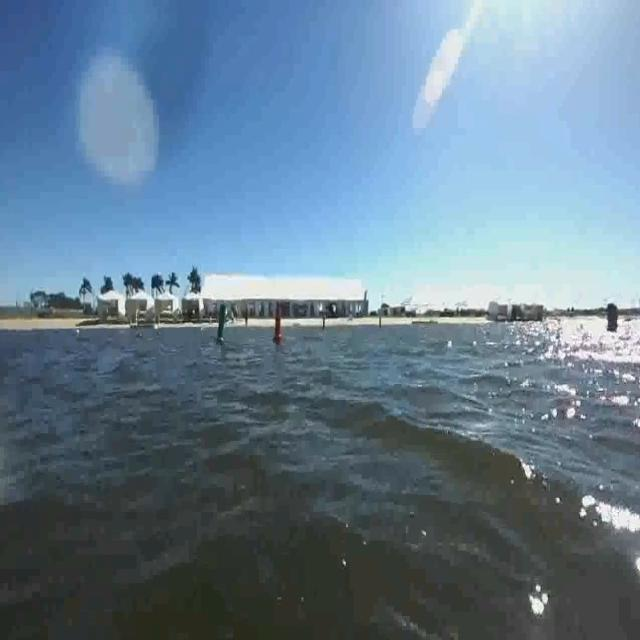green-column-buoy: (215, 302, 230, 346)
red-column-buoy: (272, 304, 287, 346)
